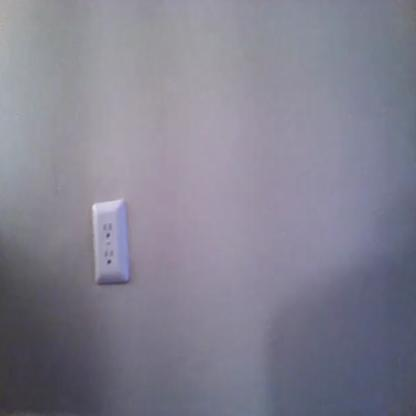OUTLET: (91, 199, 130, 284)
